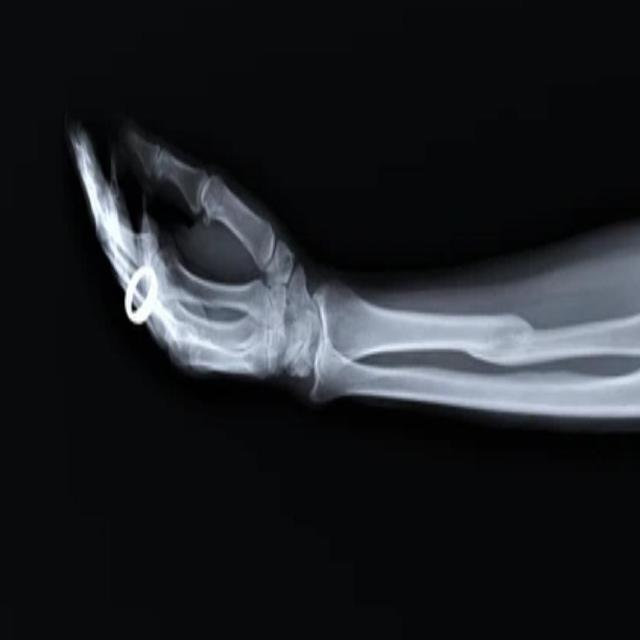bone: (446, 309, 550, 376)
